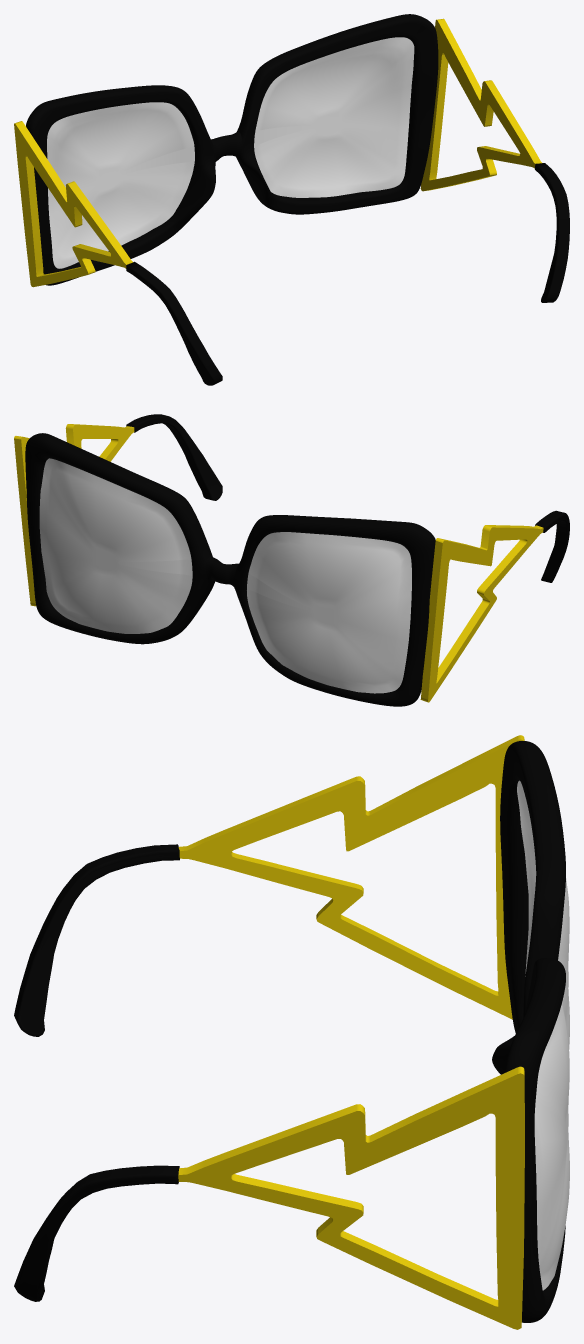
Rendered from lentesGlassline_3v5.glb.
3 renders of one model, top to bottom at view 1: azimuth 30°, elevation 25°; view 2: azimuth 150°, elevation 25°; view 3: azimuth 270°, elevation 25°, orthographic. The views are drawn at different scales.
Visible parts, largest first — view 1: CRISTAL, MARCO, PATAS, PATAOREJA; view 2: CRISTAL, MARCO, PATAS, PATAOREJA; view 3: PATAS, MARCO, PATAOREJA, CRISTAL.
Part boxes in pixels (box(x1,y1,x2,y2)): CRISTAL: box(47, 37, 414, 268); MARCO: box(26, 14, 438, 285); PATAS: box(14, 18, 541, 287); PATAOREJA: box(126, 163, 569, 385); CRISTAL: box(39, 458, 411, 693); MARCO: box(25, 433, 435, 706); PATAS: box(14, 424, 543, 702); PATAOREJA: box(126, 414, 569, 582); PATAS: box(178, 735, 524, 1329); MARCO: box(492, 741, 565, 1322); PATAOREJA: box(14, 844, 179, 1301); CRISTAL: box(517, 780, 569, 1290).
Bounding box in the file's own units: 3.74 × 1.53 × 2.6.
